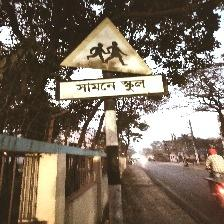School-in-front: (57, 16, 165, 105)
